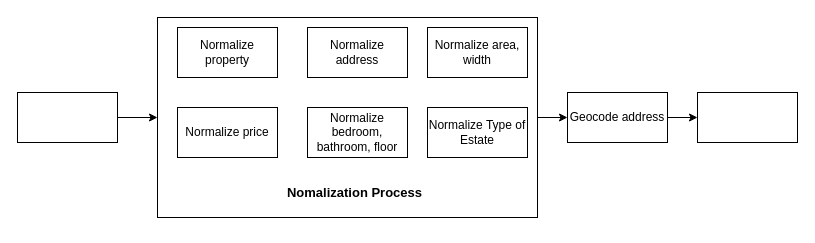
Some shapes in this 815 by 243 pixel diagram are drawn without their labels. The shapes that lost their labels are listed below. From the top down, each one's centre as x and y in pixels, then its label:
point (67, 117): Load data to dataframe
point (747, 117): save to CSV
